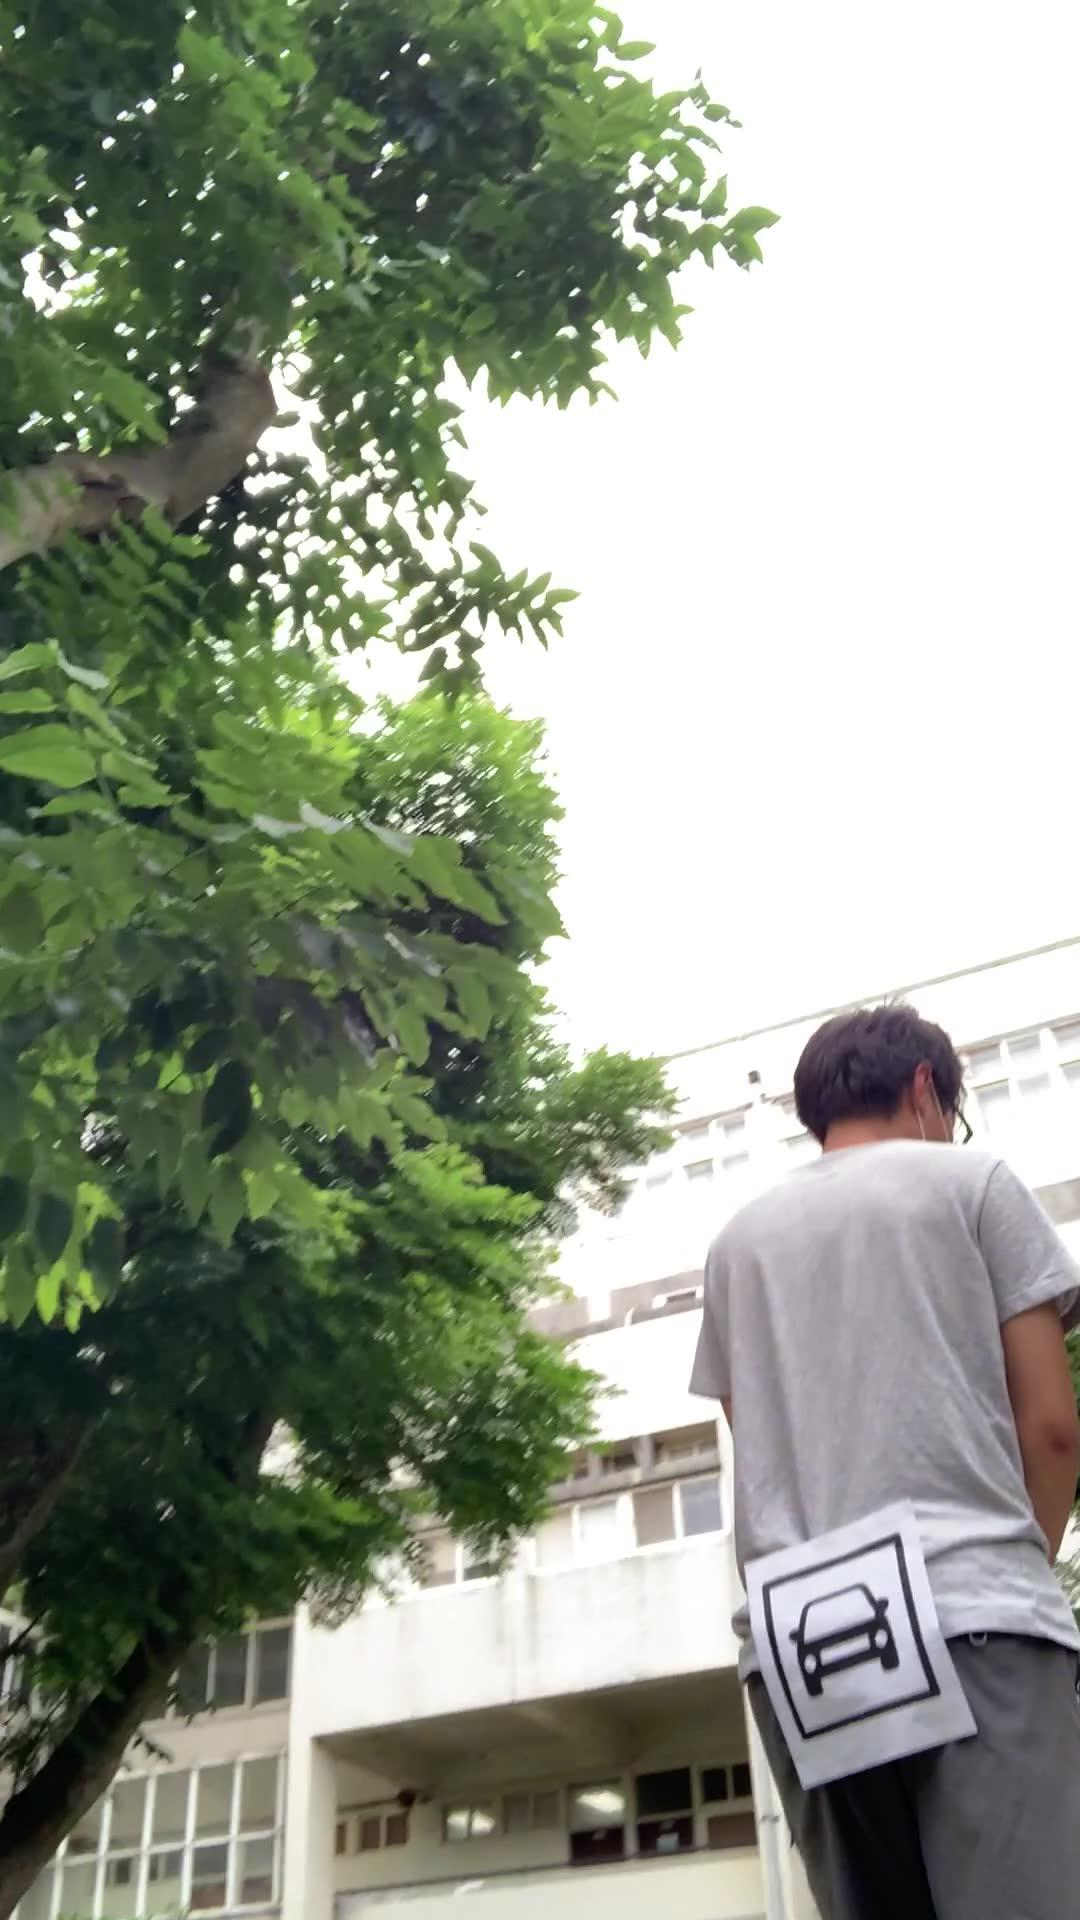car_img: (762, 1532, 942, 1742)
